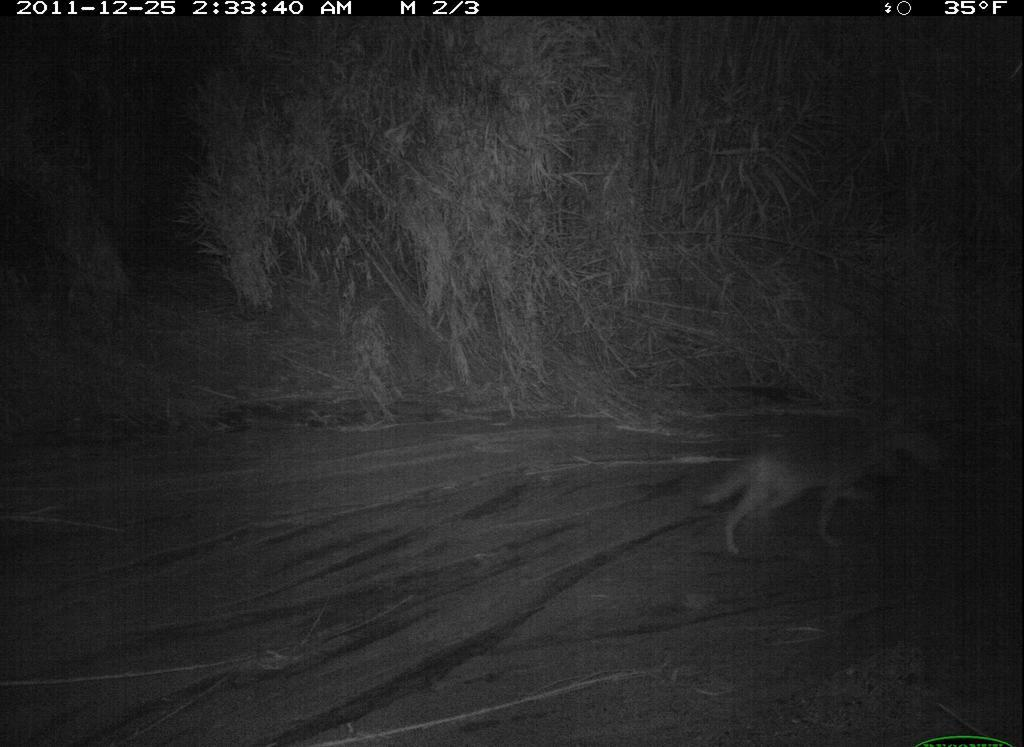coyote: (685, 414, 913, 565)
